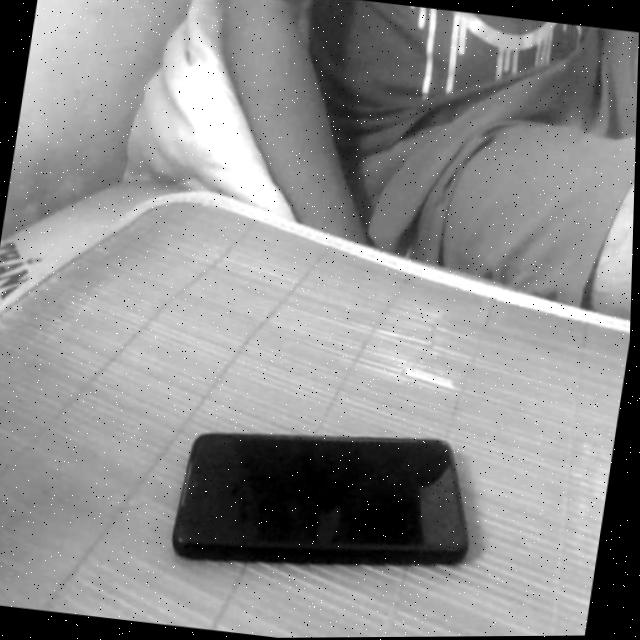phone: (146, 376, 512, 608)
